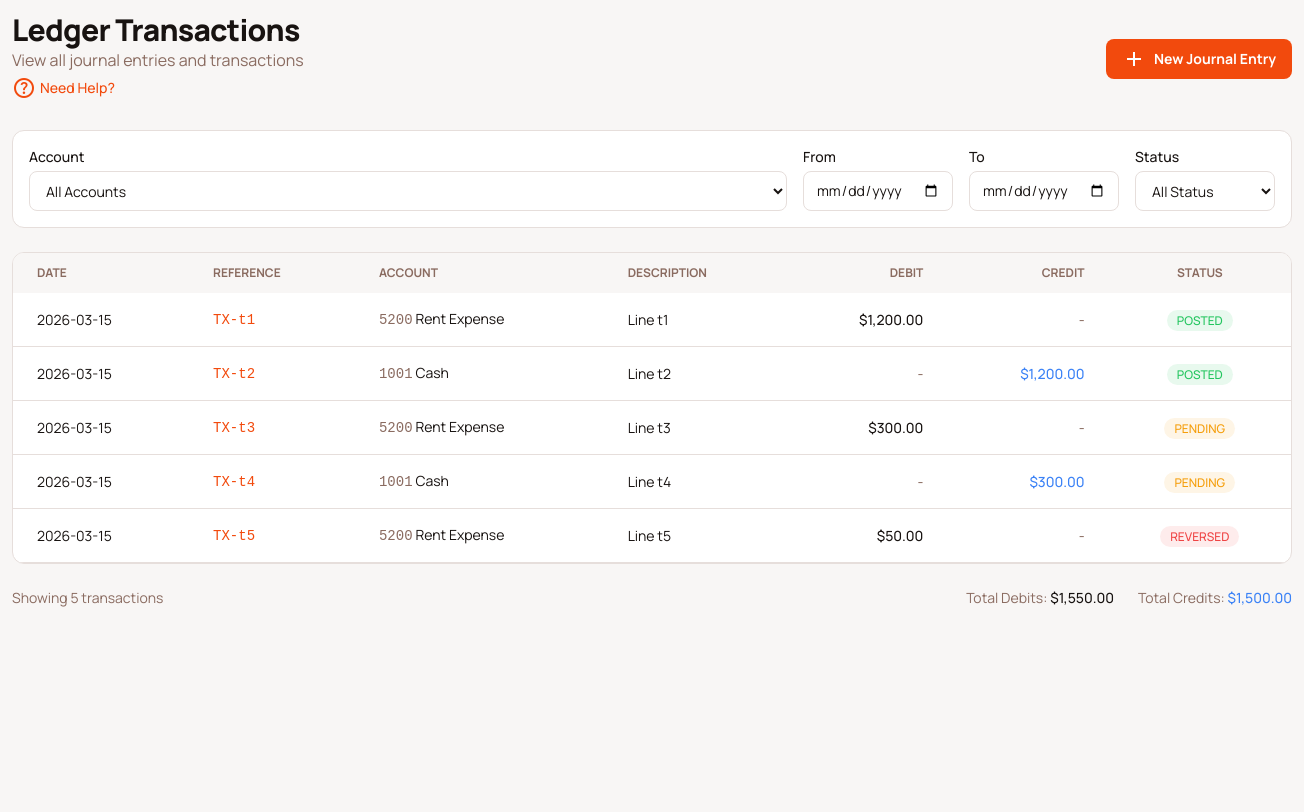
Test: LedgerTransactionsPage filters › Clear resets every filter and reloads without filter params
The image size is (1304, 812).
Expected: the table with test id "ledger-table" is shown, [13,253,1291,563]
Select "1001 - Cash" in the dropdown with test id "account-filter" at (408, 191), box [29,171,787,211]
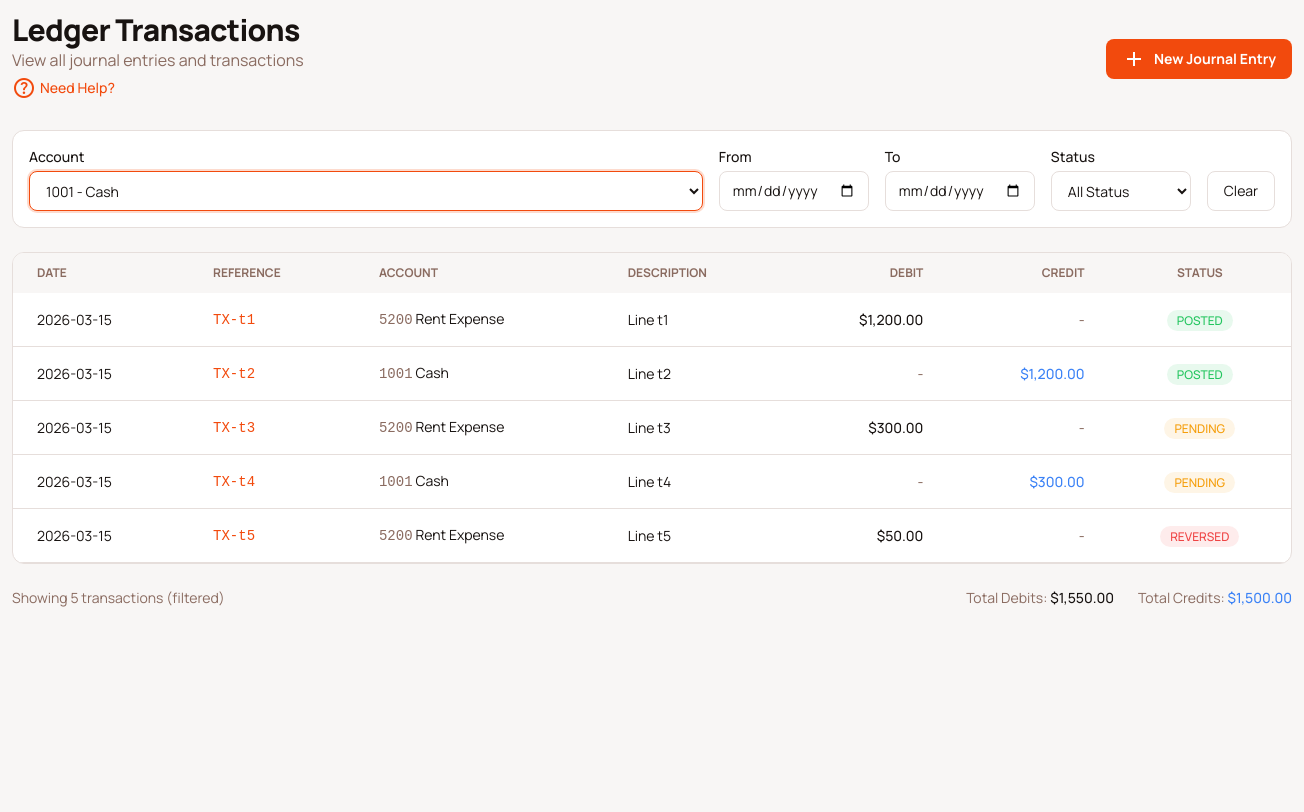
Type "2026-03-01" into the date field with test id "start-date-filter" at (794, 191), box [719,171,869,211]
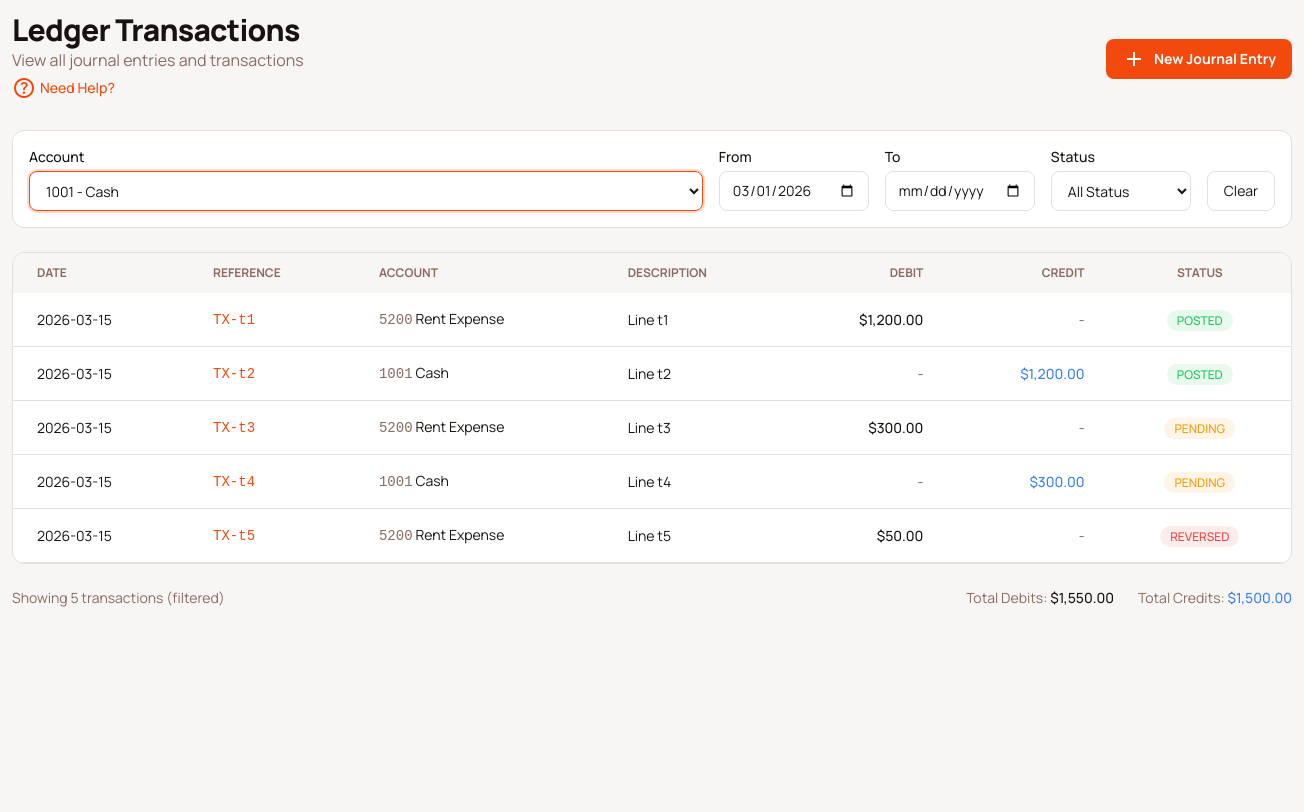
Select "Posted" in the dropdown with test id "status-filter" at (1121, 191), box [1051,171,1191,211]
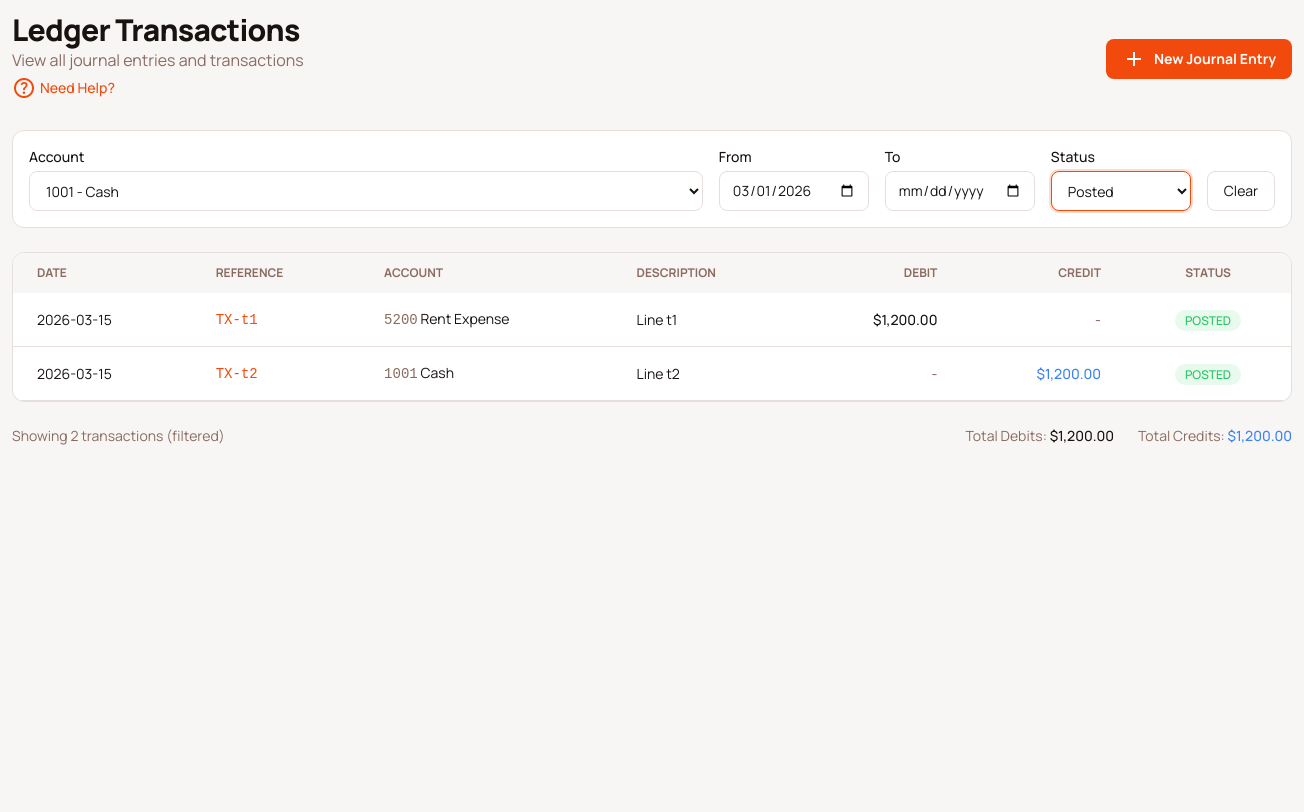
Click the button with test id "clear-filters-button" at (1241, 191), box [1207,171,1275,211]
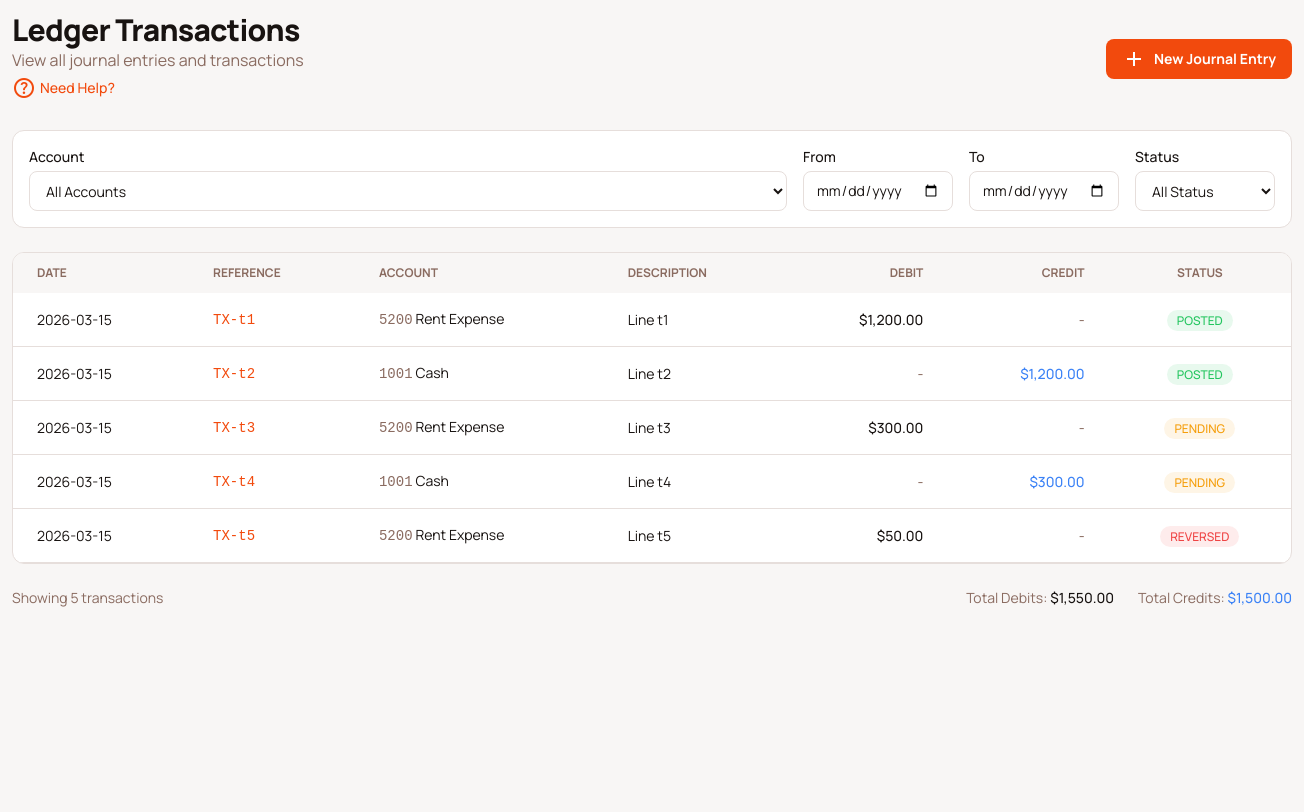
Now the date field with test id "start-date-filter" is empty, box [803,171,953,211]
Now the button with test id "clear-filters-button" is gone
Now the row with test id "ledger-row-t5" is shown, box [13,508,1291,562]
